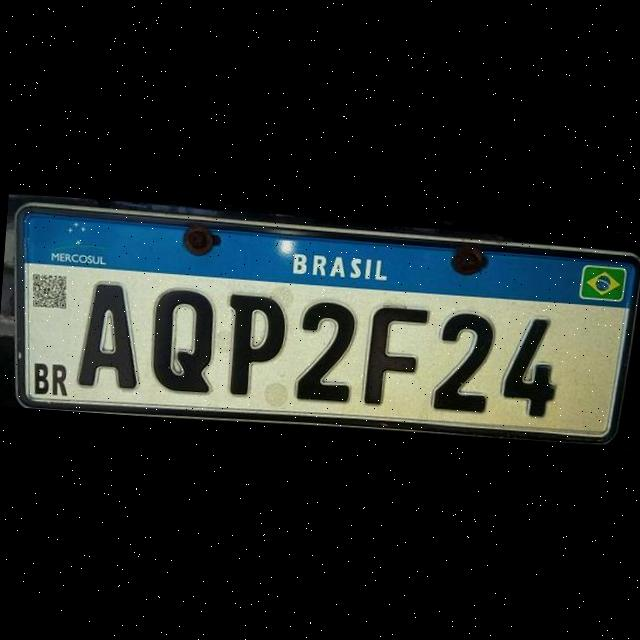Caractere: (147, 282, 218, 394), (76, 276, 144, 392), (359, 298, 428, 412), (222, 288, 290, 402), (292, 296, 360, 406), (430, 306, 498, 416), (499, 312, 562, 420)
Placa: (5, 200, 637, 446)
